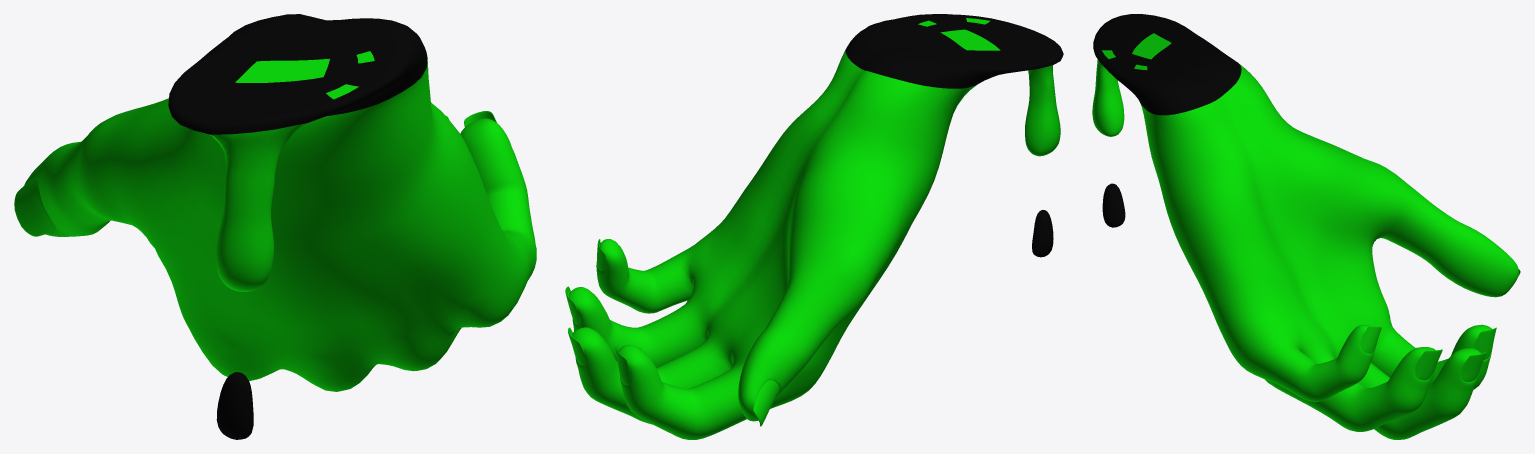
The model's file is A_PlatformHand.fbx.
3 renders of one model, left to right at view 1: azimuth 30°, elevation 25°; view 2: azimuth 150°, elevation 25°; view 3: azimuth 270°, elevation 25°, orthographic. The views are drawn at different scales.
Parts seen in each view (by area): view 1: PlatformHand; view 2: PlatformHand; view 3: PlatformHand.
Boxes of the visible parts, box(x1,y1,x2,y2) form: PlatformHand: box(14, 14, 536, 439); PlatformHand: box(565, 14, 1063, 439); PlatformHand: box(1092, 14, 1520, 439).
Size of the model in its own units: 314 by 290 by 361.
